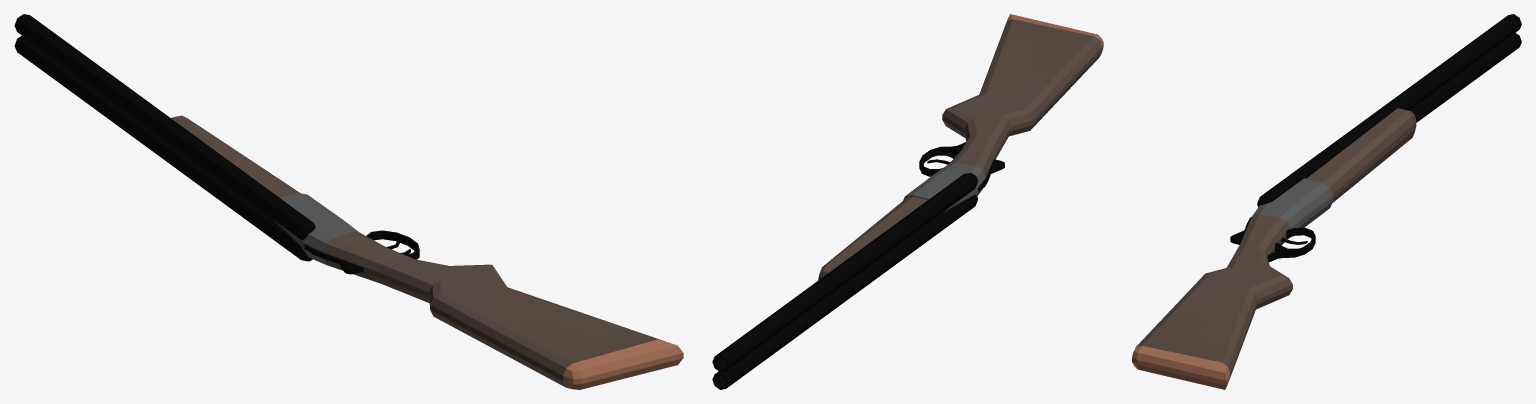
The model's file is shotgun_double_barrel.glb.
3 renders of one model, left to right at view 1: azimuth 30°, elevation 25°; view 2: azimuth 150°, elevation 25°; view 3: azimuth 330°, elevation 25°, orthographic. The views are drawn at different scales.
Parts seen in each view (by area): view 1: Shotgun_doubleBarrel; view 2: Shotgun_doubleBarrel; view 3: Shotgun_doubleBarrel.
Boxes of the visible parts, <box> form: Shotgun_doubleBarrel: <box>14,14,683,389</box>; Shotgun_doubleBarrel: <box>712,14,1103,389</box>; Shotgun_doubleBarrel: <box>1132,14,1521,389</box>.
Size of the model in its own units: 0.4236 by 0.0913 by 2.07.
1 material, 1 textured.
